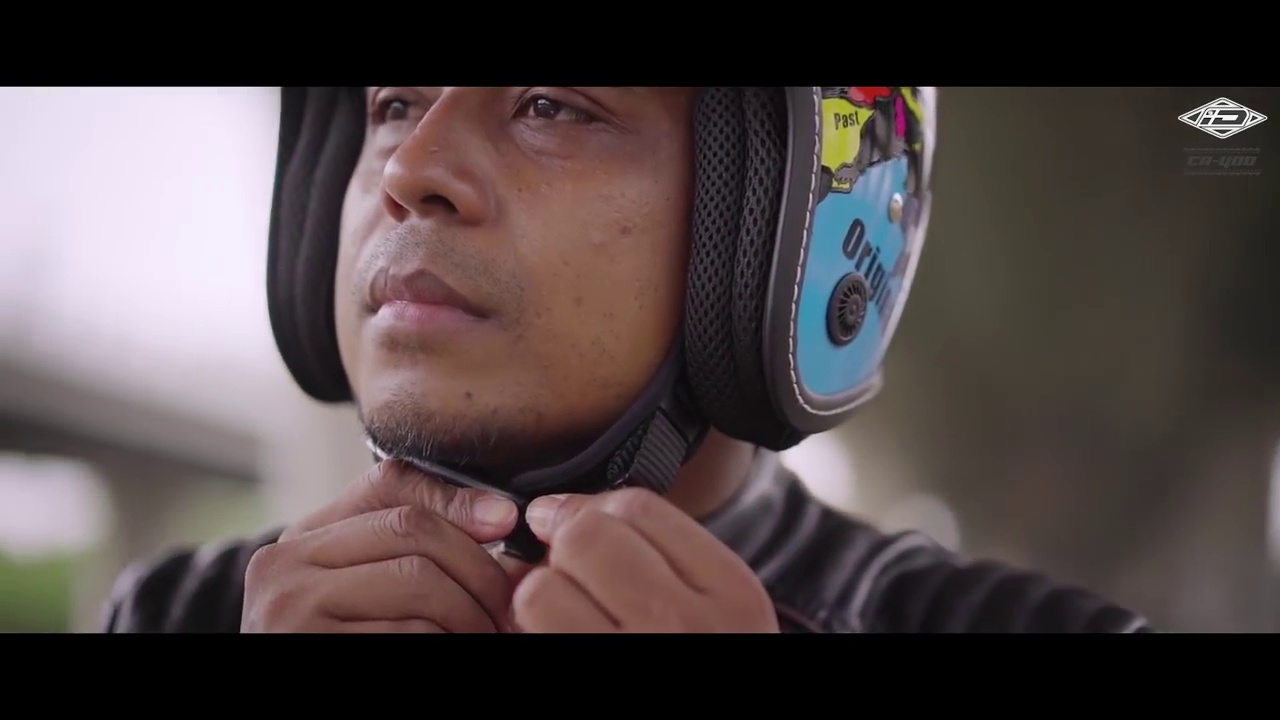helmet: (242, 87, 959, 448)
